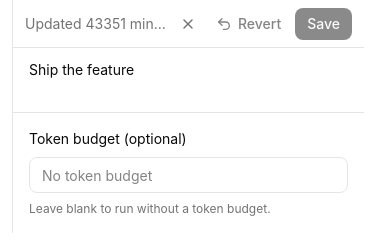
Test: successful numeric budget 00100 is clean after canonical server save
Type "00100" into the number field labelled "Token budget (optional)" at {"x": 188, "y": 175}, box 29,157 -> 348,193
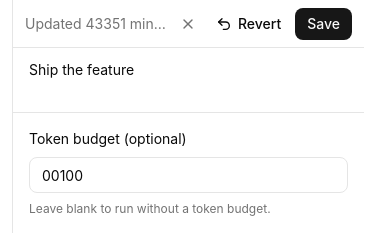
Click the button "Save" at {"x": 324, "y": 24}, box 295,8 -> 352,40
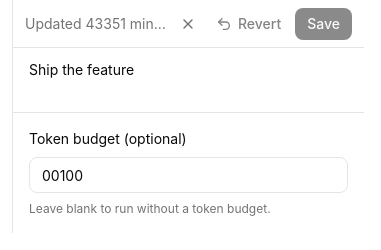
expect the button "Save" is disabled: met, box 295,8 -> 352,40
expect the button "Revert" is disabled: met, box 206,8 -> 291,40
